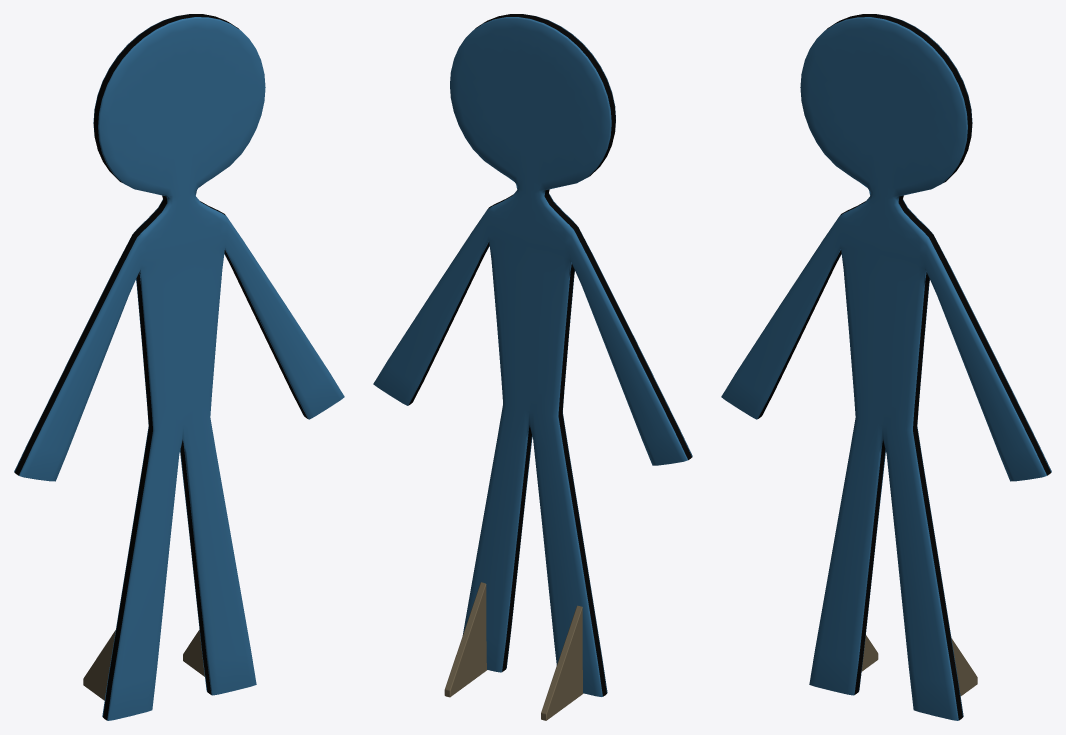
The model's file is HumanFigure_SizeReference_Var1.fbx.
The picture shows the model from 3 angles, left to right: view 1: azimuth 30°, elevation 25°; view 2: azimuth 150°, elevation 25°; view 3: azimuth 330°, elevation 25°; orthographic projection. The views are drawn at different scales.
Parts seen in each view (by area): view 1: msh_HumanFigureSizeReference_Mesh1; view 2: msh_HumanFigureSizeReference_Mesh1; view 3: msh_HumanFigureSizeReference_Mesh1.
Part boxes in pixels (x1,y1,x2,y2): msh_HumanFigureSizeReference_Mesh1: (14, 14, 344, 720); msh_HumanFigureSizeReference_Mesh1: (373, 14, 692, 720); msh_HumanFigureSizeReference_Mesh1: (721, 14, 1051, 720).
Bounding box in the file's own units: 0.8944 × 1.8 × 0.2151.
